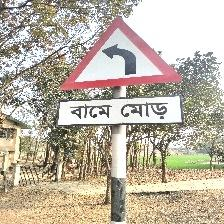Left-Turn: (57, 15, 186, 131)
